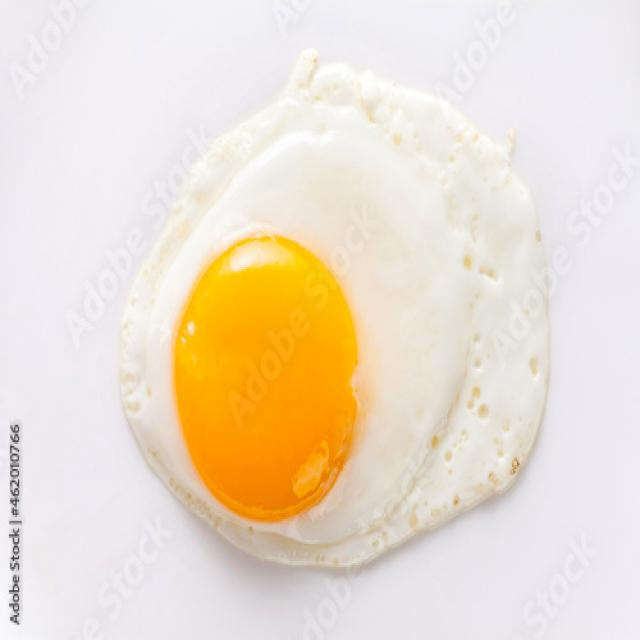Egg: (121, 51, 548, 568)
